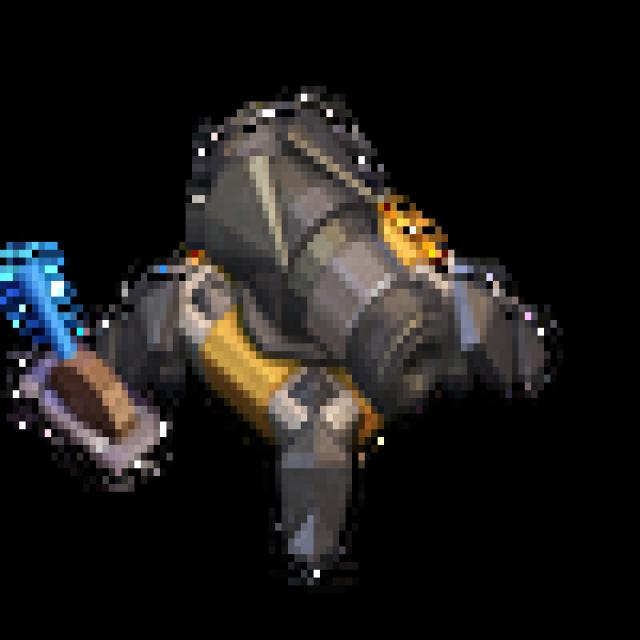cannon: (6, 54, 568, 588)
